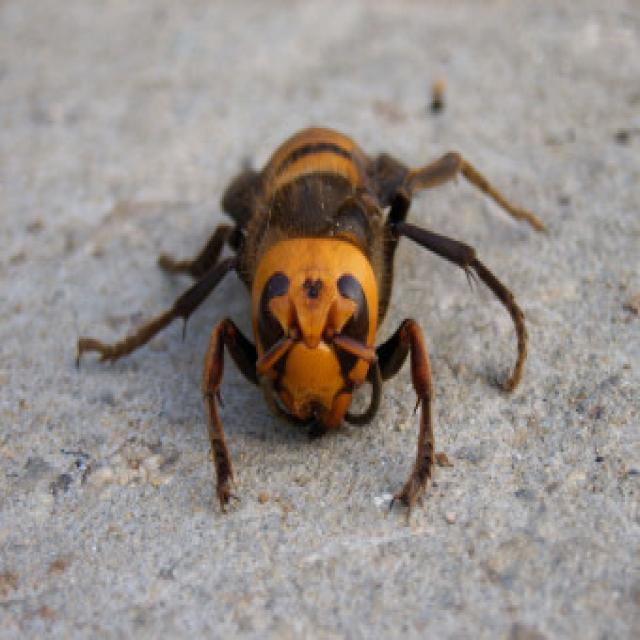Wasp: (83, 123, 534, 516)
